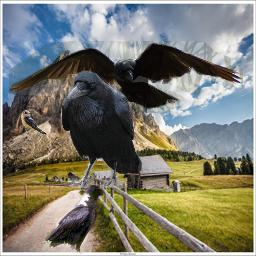Crow: (9, 41, 243, 122), (60, 70, 143, 188), (42, 182, 106, 254)
Swallow: (21, 109, 49, 136)
